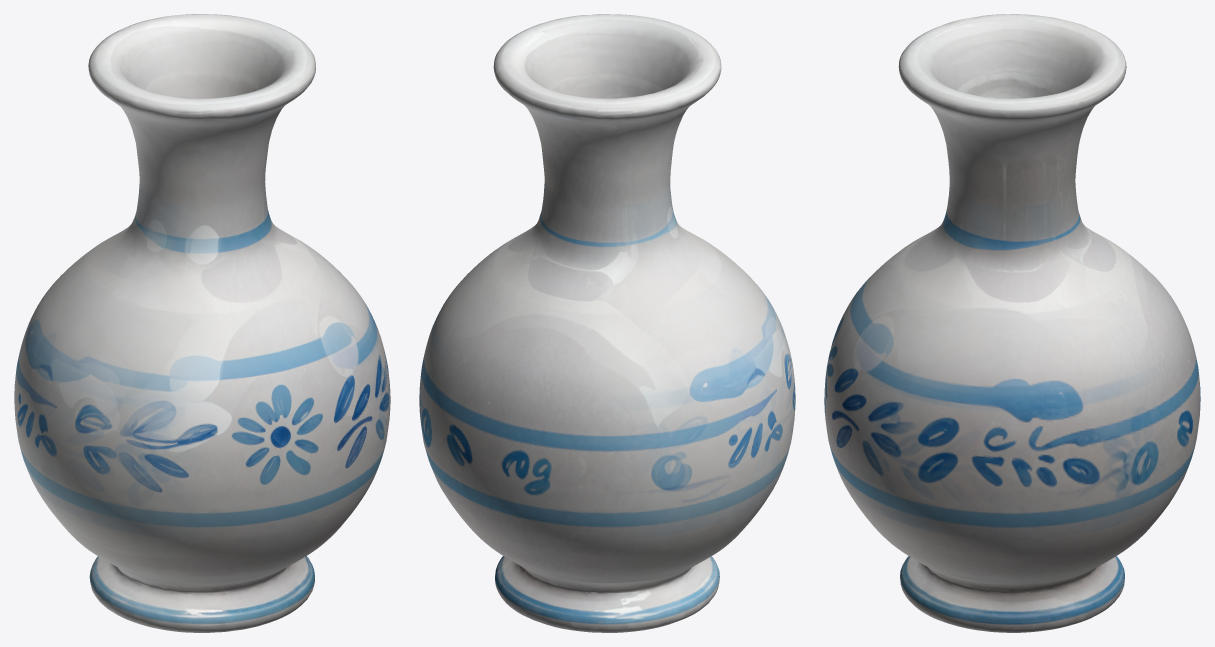
Rendered from vase_raw.glb.
The picture shows the model from 3 angles, left to right: view 1: azimuth 30°, elevation 25°; view 2: azimuth 150°, elevation 25°; view 3: azimuth 270°, elevation 25°; orthographic projection.
Visible parts, largest first — view 1: texture_mapping; view 2: texture_mapping; view 3: texture_mapping.
Boxes of the visible parts, box(x1,y1,x2,y2) form: texture_mapping: box(14, 14, 390, 632); texture_mapping: box(419, 14, 795, 632); texture_mapping: box(824, 14, 1200, 632).
Bounding box in the file's own units: 0.6406 × 1 × 0.6408.
Materials: 1 (1 with a texture image).
